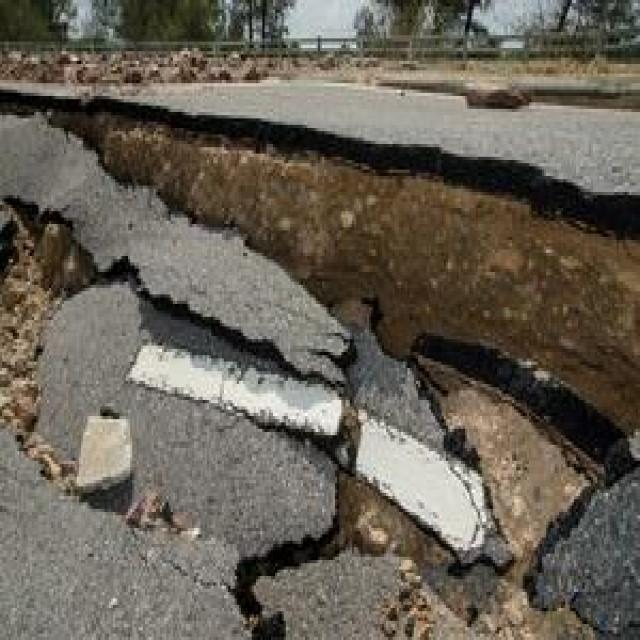road collapse: (2, 61, 640, 640)
